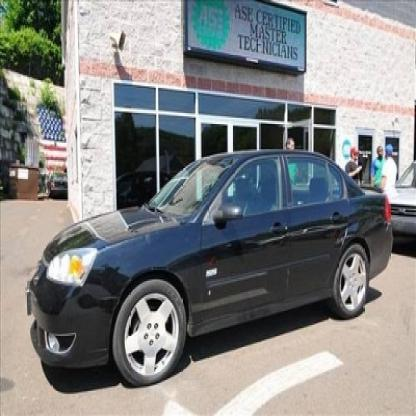Vehicle: (24, 122, 398, 399)
